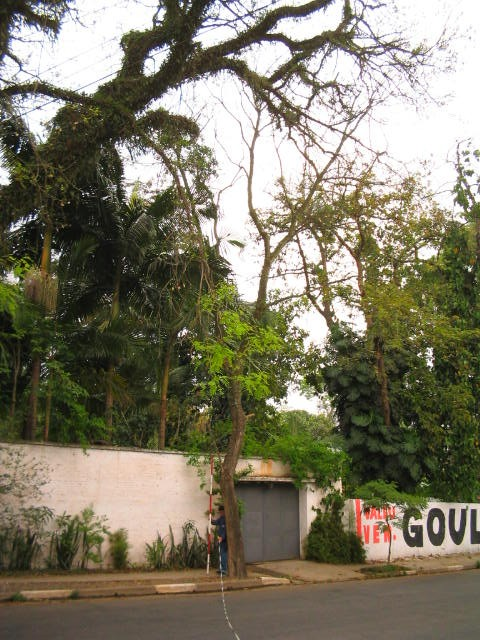stem: (215, 385, 257, 579)
stick: (202, 457, 215, 574)
tree: (129, 3, 469, 578)
